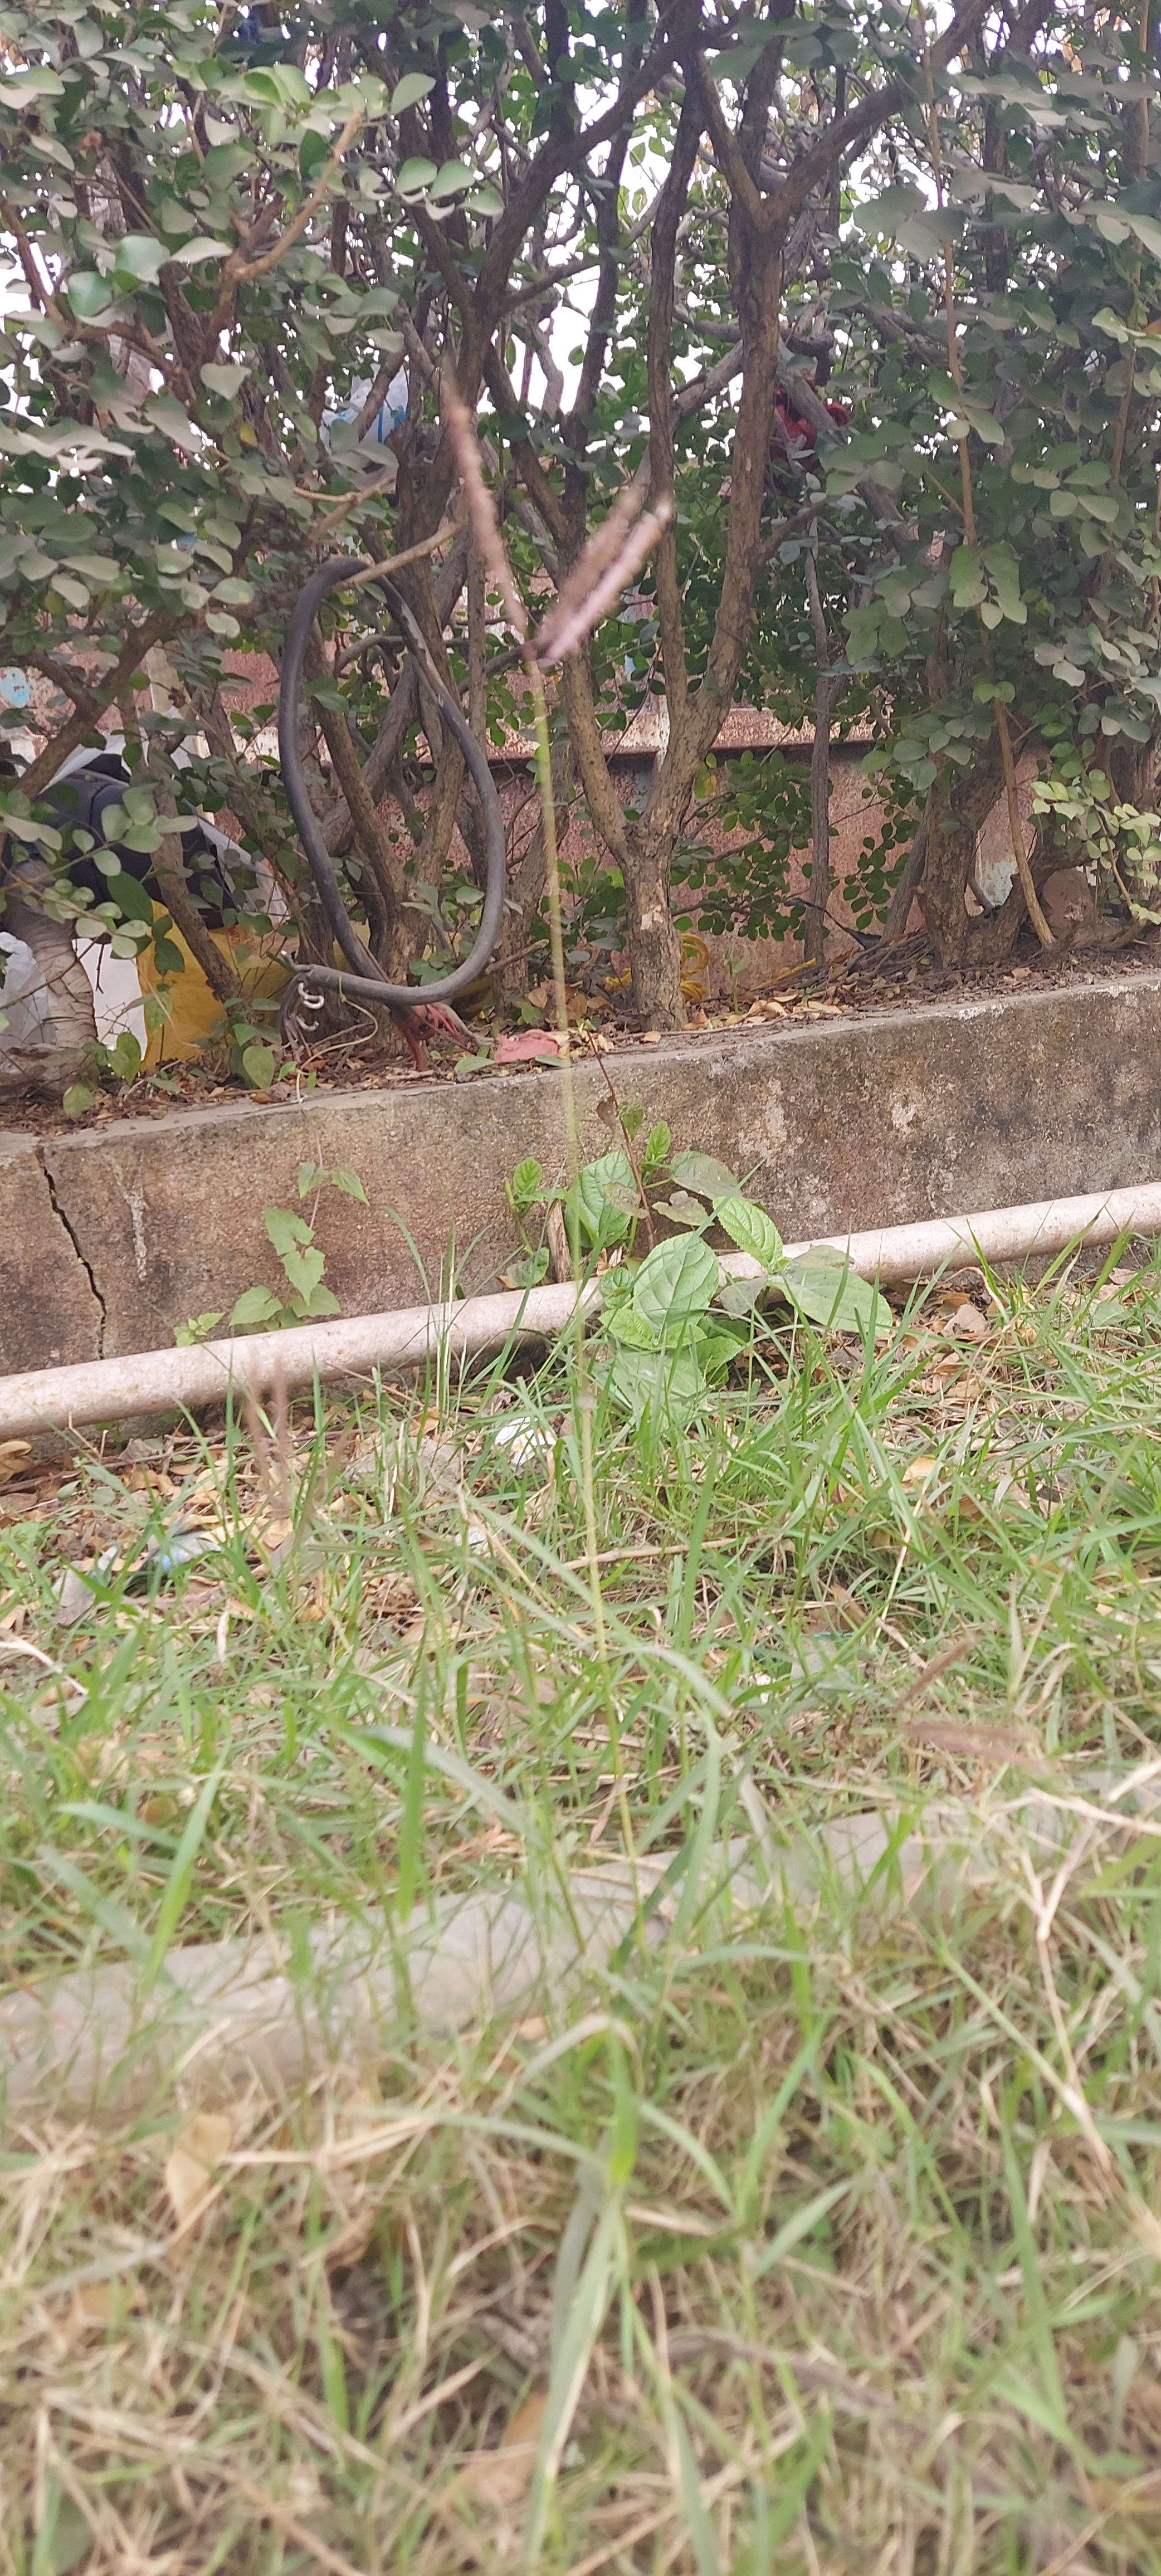Grass: (7, 1454, 1161, 2553)
Wall: (0, 1025, 1161, 1291)
